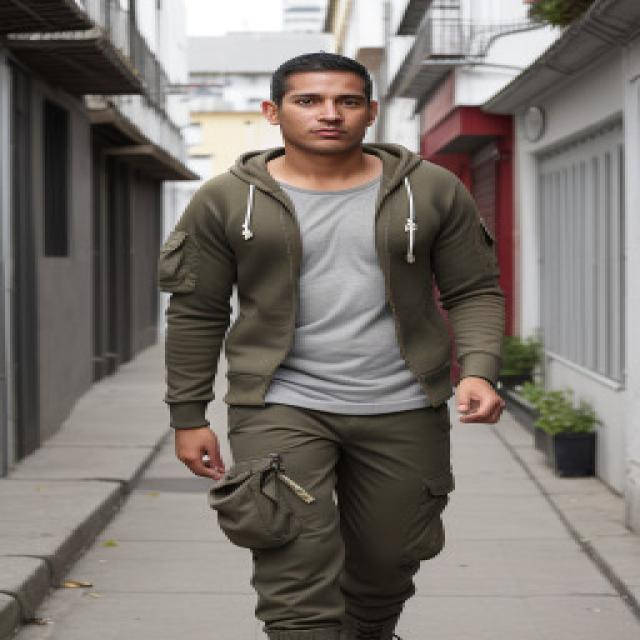Ai human 2: (144, 38, 542, 640)
